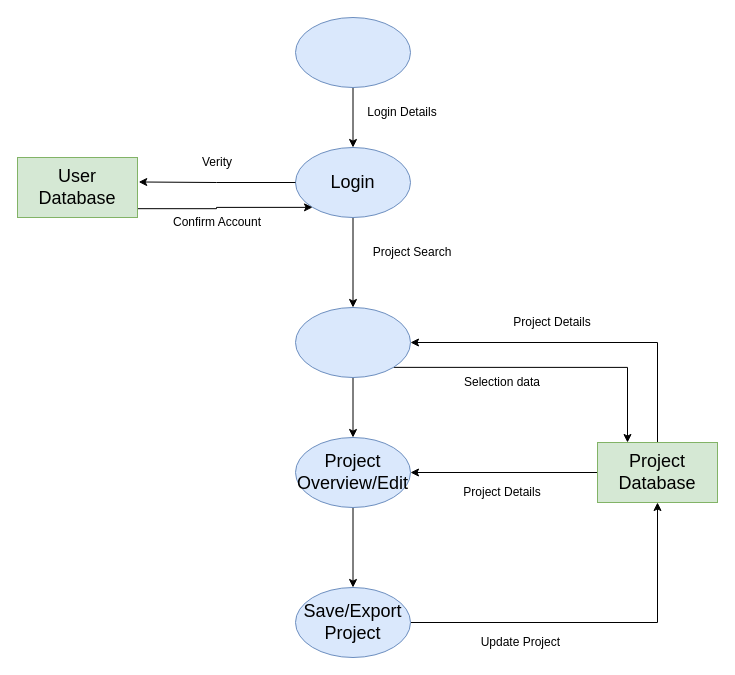
This 735x675 diagram has some shape labels left out. Here are the shapes that lost their labels. From the top down, the box of each, then its label:
(294, 16, 410, 88): User
(294, 306, 410, 378): Select Project Page
